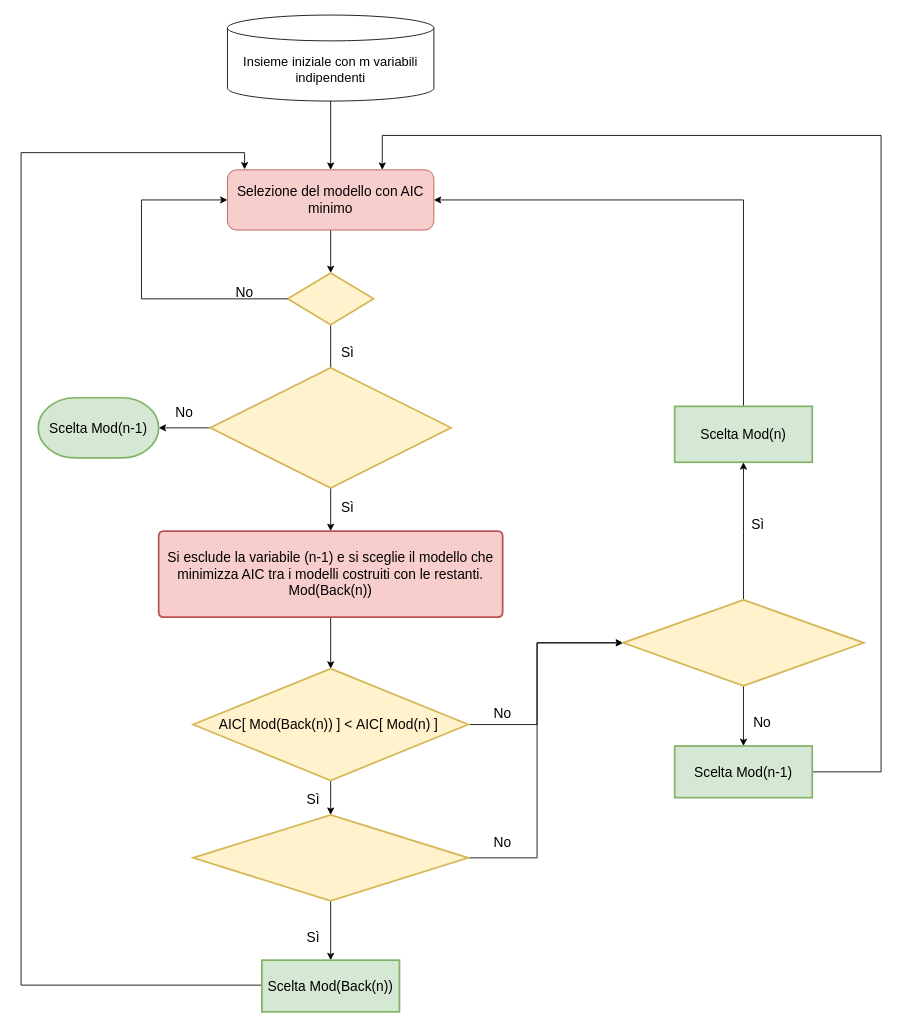
Some shapes in this 903 by 1028 pixel diagram are drawn without their labels. Here are the shapes that lost their labels. From the top down, the box of each, then its label:
(286, 272, 374, 325): n > 1
(209, 366, 452, 488): AIC[ Mod(n) ] < AIC[ Mod(n-1) ]
(622, 599, 864, 686): Corr[ vars(n) ] < 0.7
(192, 814, 469, 901): Corr[ varsBack(n) ] < 0.7
